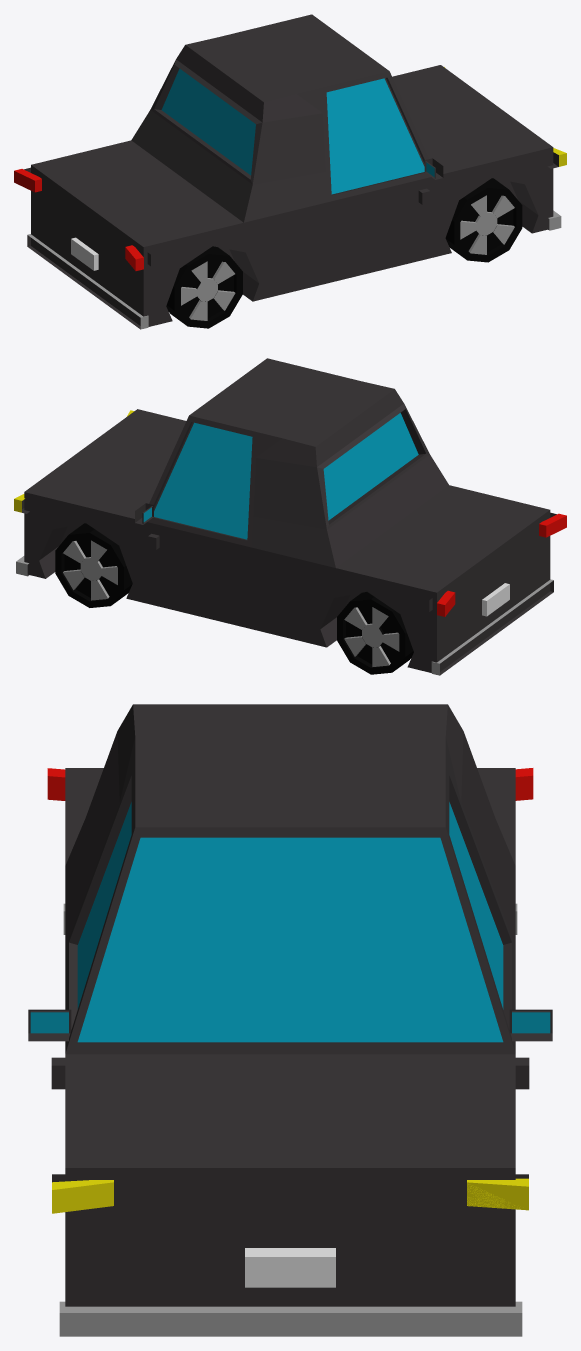
File: carSeparated.fbx
3 renders of one model, top to bottom at view 1: azimuth 30°, elevation 25°; view 2: azimuth 150°, elevation 25°; view 3: azimuth 270°, elevation 25°, orthographic. The views are drawn at different scales.
Visible parts, largest first — view 1: Cube, Cube.002, Cube.001; view 2: Cube, Cube.003, Cube.001; view 3: Cube.
Part boxes in pixels (<box>): Cube: <box>14,14,566,329</box>; Cube.002: <box>445,178,522,262</box>; Cube.001: <box>166,246,242,328</box>; Cube: <box>14,358,566,675</box>; Cube.003: <box>55,523,132,607</box>; Cube.001: <box>337,592,413,674</box>; Cube: <box>28,704,552,1336</box>.
Bounding box in the file's own units: 574 × 255 × 302.
